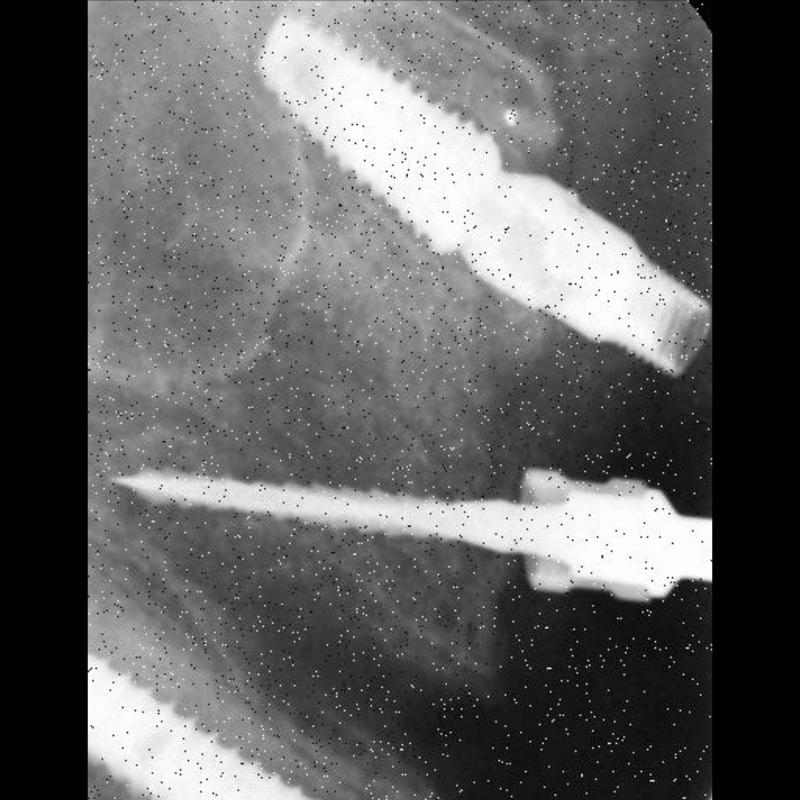Dentium: (252, 5, 497, 251)
